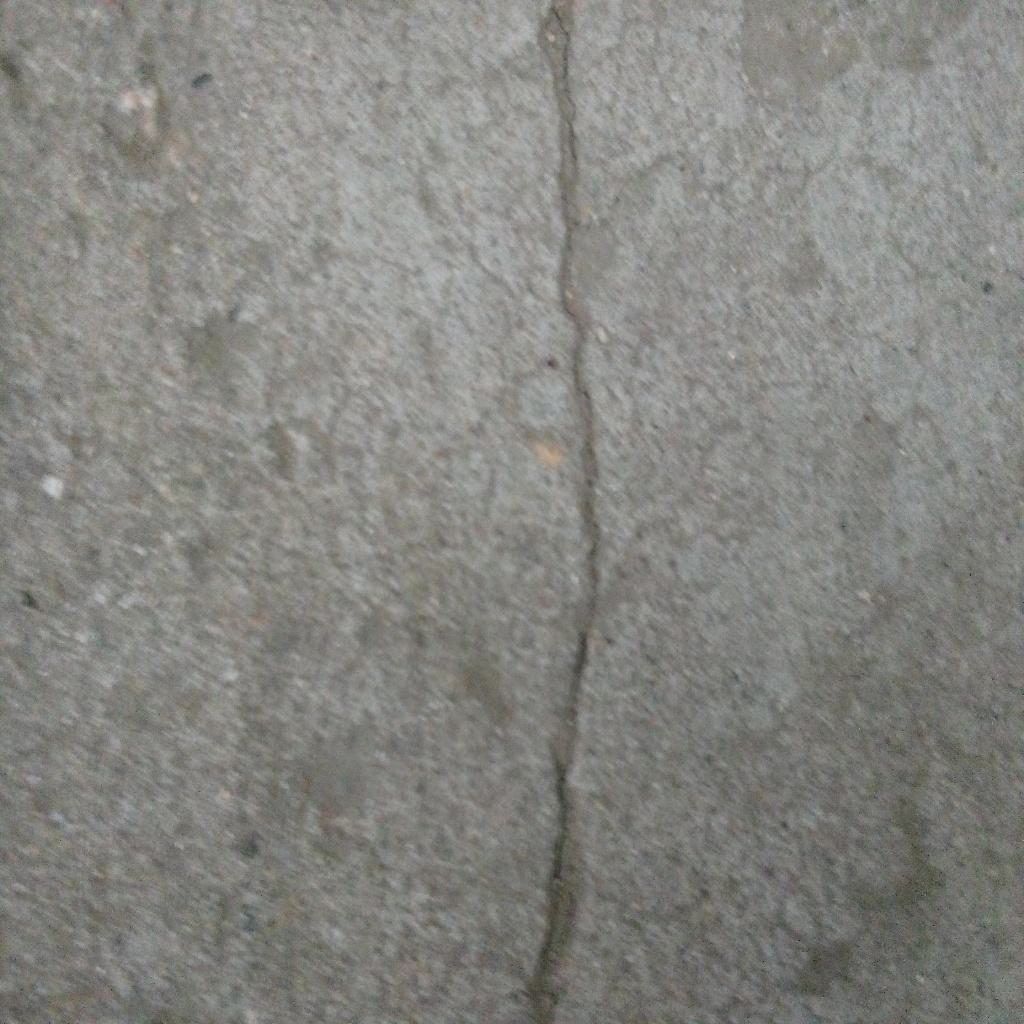Crack: (528, 1, 601, 1024)
